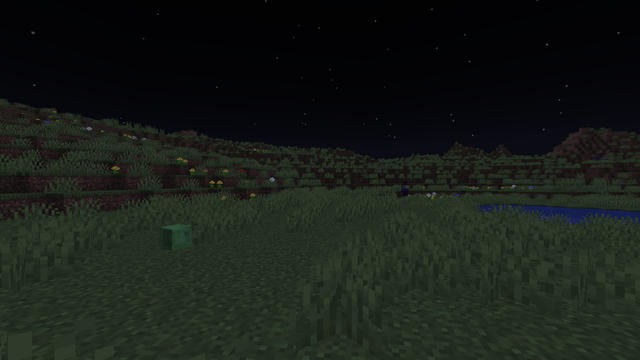slimes: (157, 223, 191, 250)
sorcieres: (402, 184, 407, 198)
